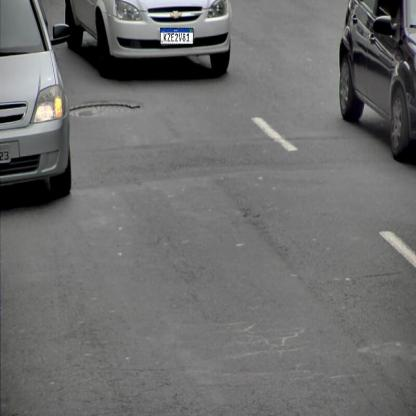PlacaM: (160, 28, 194, 44)
